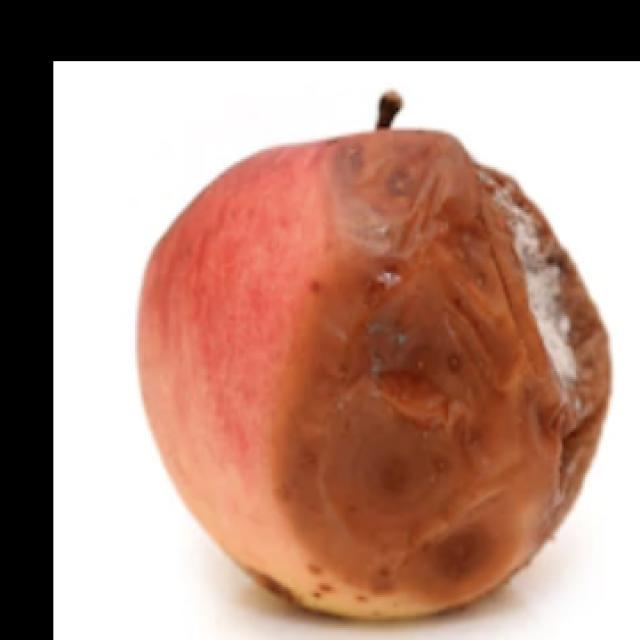Rotten: (160, 136, 586, 640)
